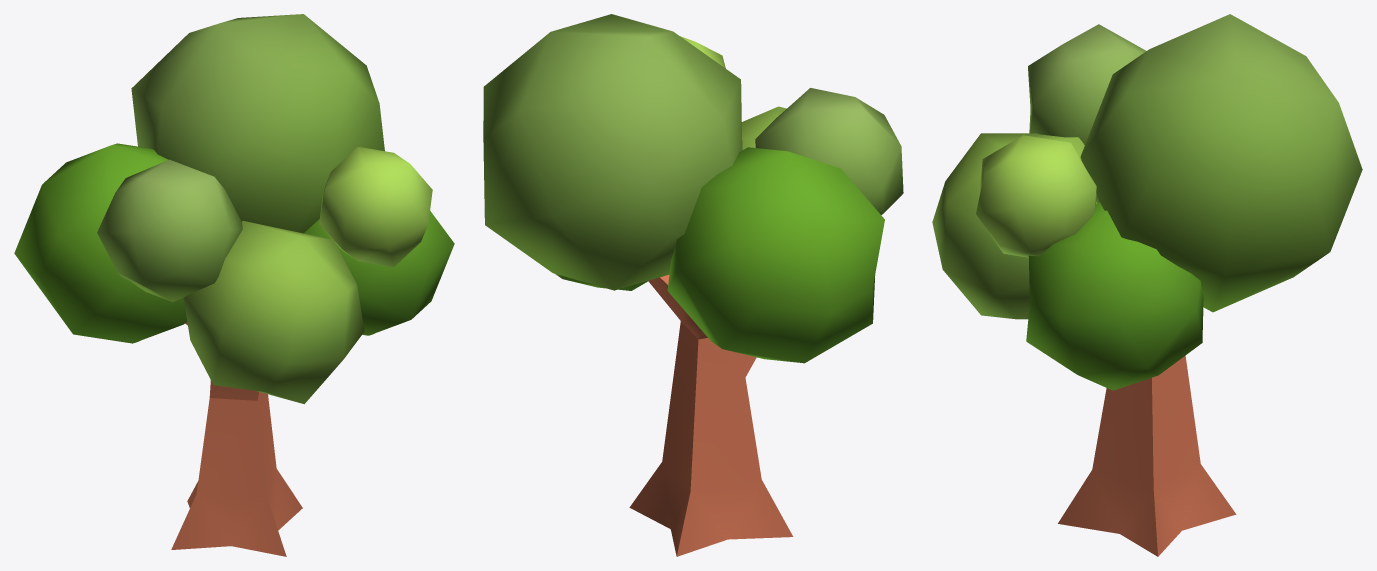
The model's file is Decor_Cay.fbx.
3 renders of one model, left to right at view 1: azimuth 30°, elevation 25°; view 2: azimuth 150°, elevation 25°; view 3: azimuth 270°, elevation 25°, orthographic. The views are drawn at different scales.
Visible parts, largest first — view 1: Decor_Cay; view 2: Decor_Cay; view 3: Decor_Cay.
Part boxes in pixels (<box>): Decor_Cay: <box>14,14,454,556</box>; Decor_Cay: <box>483,14,903,556</box>; Decor_Cay: <box>932,14,1362,556</box>.
Bounding box in the file's own units: 599 × 760 × 574.
